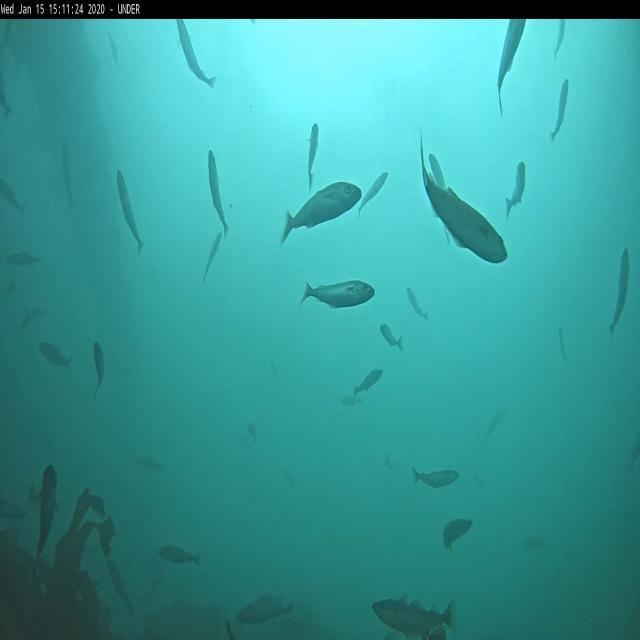fish: (418, 128, 508, 265), (280, 182, 362, 241), (371, 591, 457, 636), (174, 19, 217, 86), (498, 20, 528, 116), (302, 274, 376, 310), (114, 167, 144, 253), (208, 150, 234, 239), (608, 247, 630, 337), (36, 466, 56, 560), (235, 594, 295, 624), (60, 142, 80, 215), (359, 169, 389, 215), (550, 78, 570, 145), (201, 232, 224, 287), (506, 156, 526, 214), (411, 464, 461, 487), (157, 542, 201, 568), (0, 174, 26, 216), (306, 122, 320, 193), (38, 339, 70, 370), (442, 519, 473, 550), (105, 30, 123, 75), (406, 286, 428, 322), (354, 367, 382, 394), (19, 306, 46, 334), (92, 341, 106, 393), (381, 322, 404, 352), (7, 250, 45, 266), (134, 453, 164, 473), (342, 393, 364, 414), (554, 20, 566, 58)
